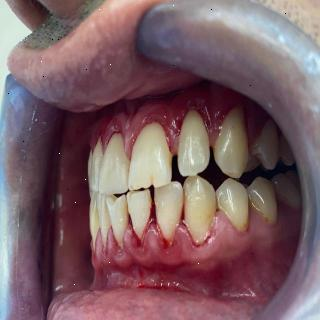Gum Swelling: (89, 89, 261, 162), (91, 210, 237, 265)
maligned: (242, 119, 278, 175)
stains: (228, 202, 254, 246), (250, 196, 276, 228)
